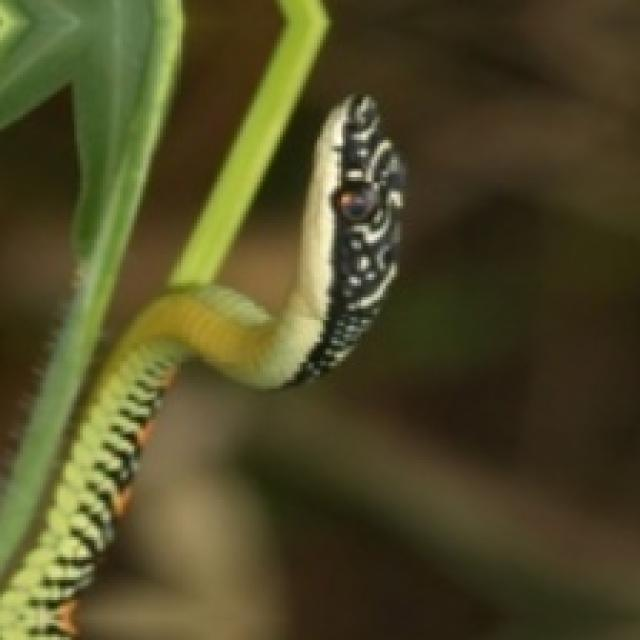paradise tree snake: (0, 94, 403, 637)
